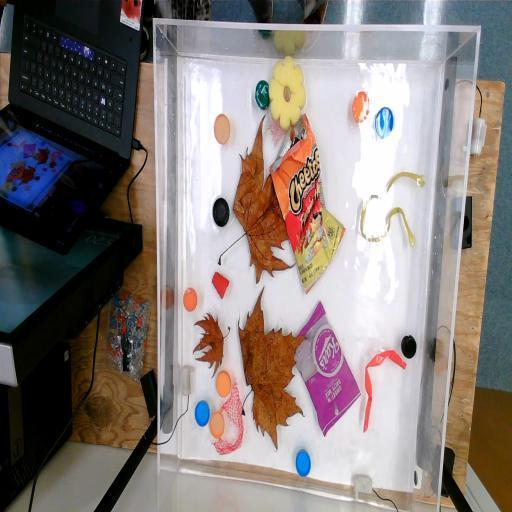Bottle Cap: (374, 106, 394, 140), (352, 90, 371, 124), (212, 196, 231, 228), (214, 112, 232, 145), (254, 78, 272, 110), (296, 446, 312, 480), (194, 398, 211, 428), (216, 369, 232, 399), (209, 410, 225, 440), (400, 332, 417, 360), (182, 286, 198, 313)
Cone Cap: (212, 270, 230, 299)
Leaf: (217, 114, 296, 284), (238, 284, 308, 454), (192, 310, 232, 380)
Netting: (211, 377, 245, 457), (268, 114, 288, 148)
Plastic Bag: (268, 114, 347, 296), (288, 297, 362, 439)
Plastic Strand: (359, 170, 426, 249), (362, 348, 408, 436)
Sponge: (268, 56, 308, 130)
